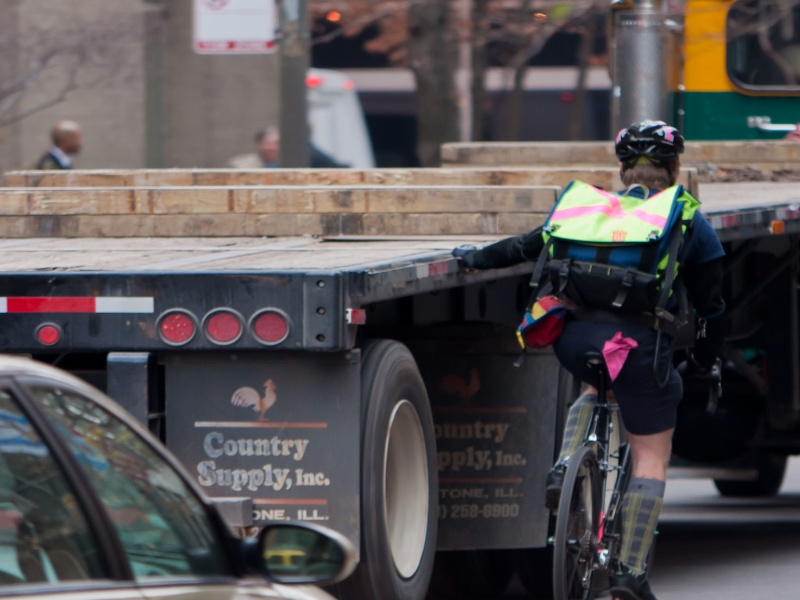jacket: (550, 181, 680, 248)
